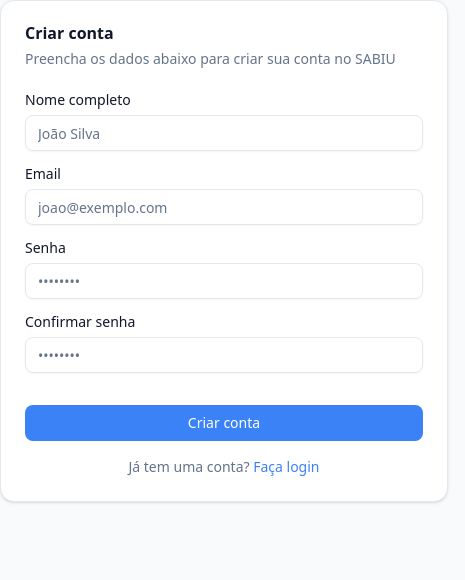
SignUpForm › deve exibir mensagem de erro quando o cadastro falha
The width and height of the screenshot is (465, 580).
In the field labelled "Nome completo": (224, 133) top-left (25, 115), bottom-right (423, 151), type "Test User"
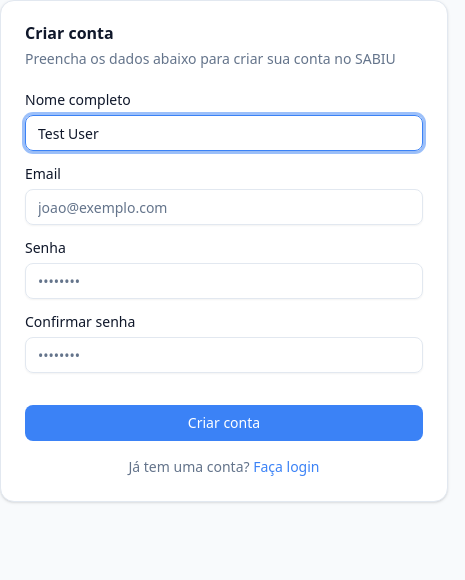
In the field labelled "Email": (224, 207) top-left (25, 189), bottom-right (423, 225), type "test@example.com"
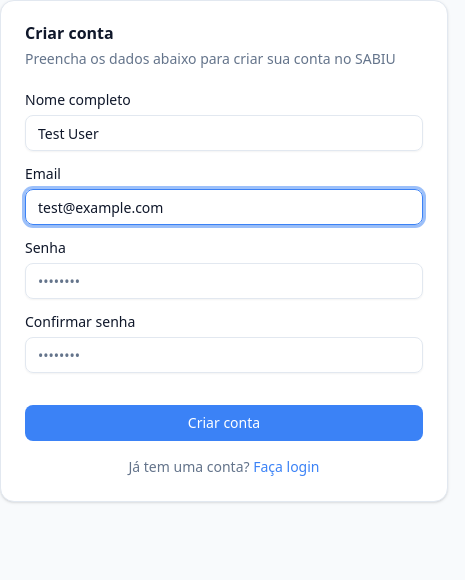
In the password field labelled "Senha": (224, 281) top-left (25, 263), bottom-right (423, 299), type "Password123"
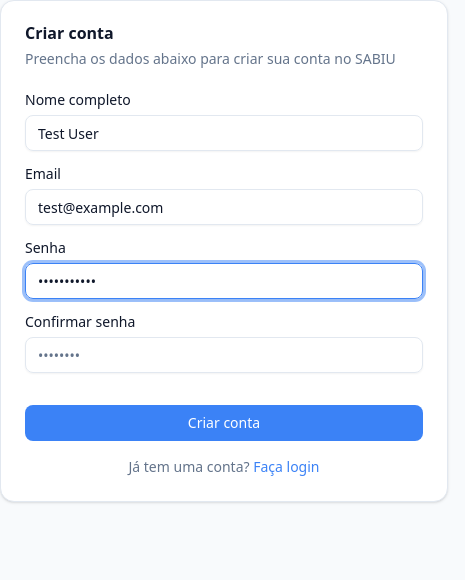
In the password field labelled "Confirmar senha": (224, 355) top-left (25, 337), bottom-right (423, 373), type "Password123"
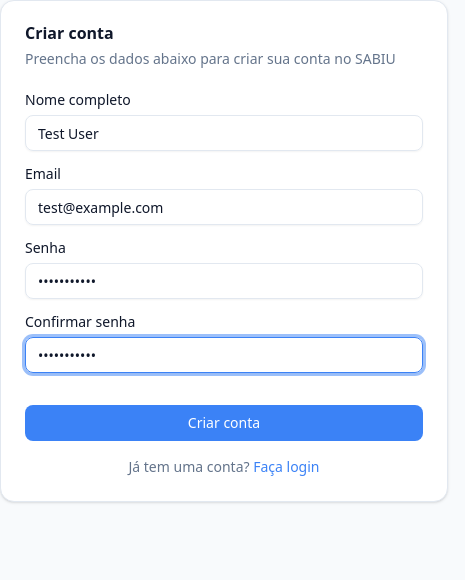
Click the button "Criar conta": click(224, 423) top-left (25, 405), bottom-right (423, 441)
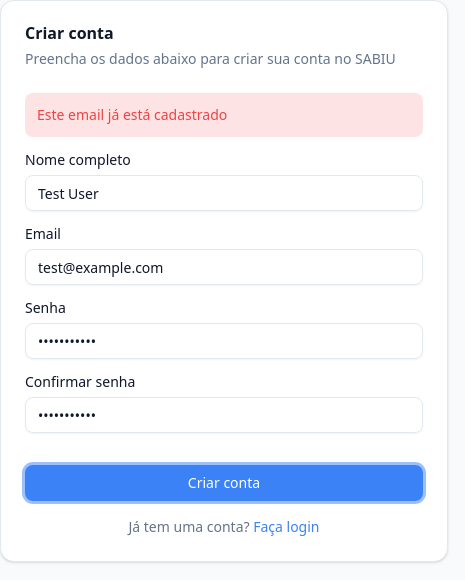
Check: the text "Este email já está cadastrado" is shown, box top-left (25, 93), bottom-right (423, 137)
